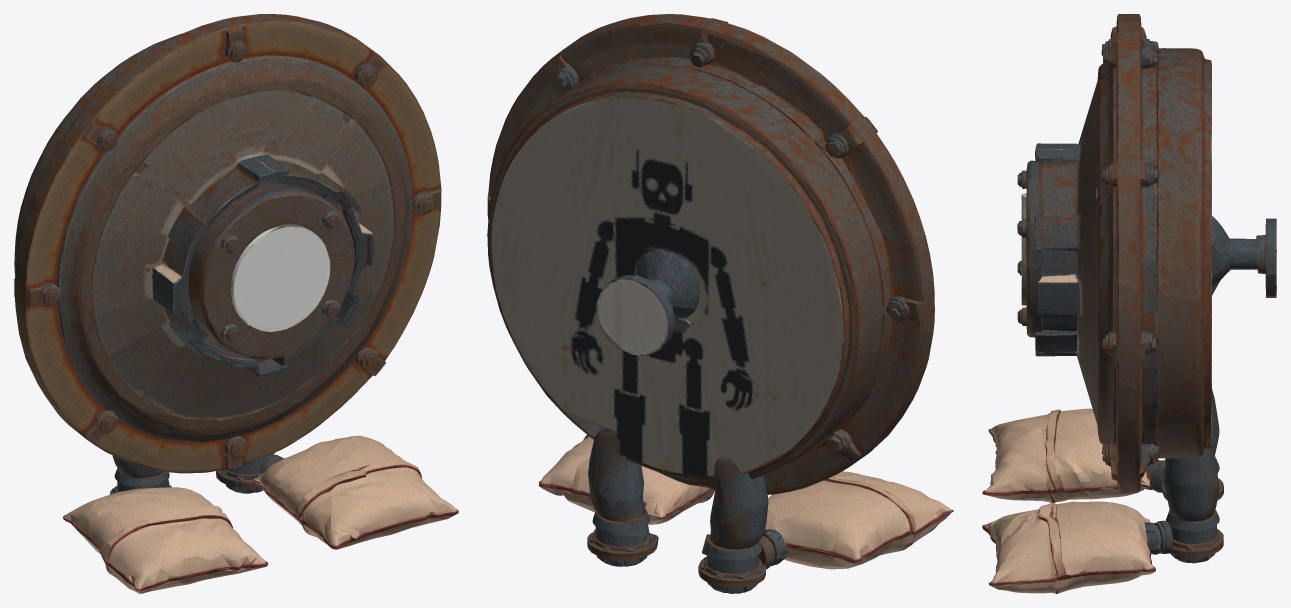
Rendered from RangeTarget.glb.
The picture shows the model from 3 angles, left to right: view 1: azimuth 30°, elevation 25°; view 2: azimuth 150°, elevation 25°; view 3: azimuth 270°, elevation 25°; orthographic projection. The views are drawn at different scales.
Bounding box in the file's own units: 1.66 × 1.9 × 1.02.
Materials: 1 (1 with a texture image).
